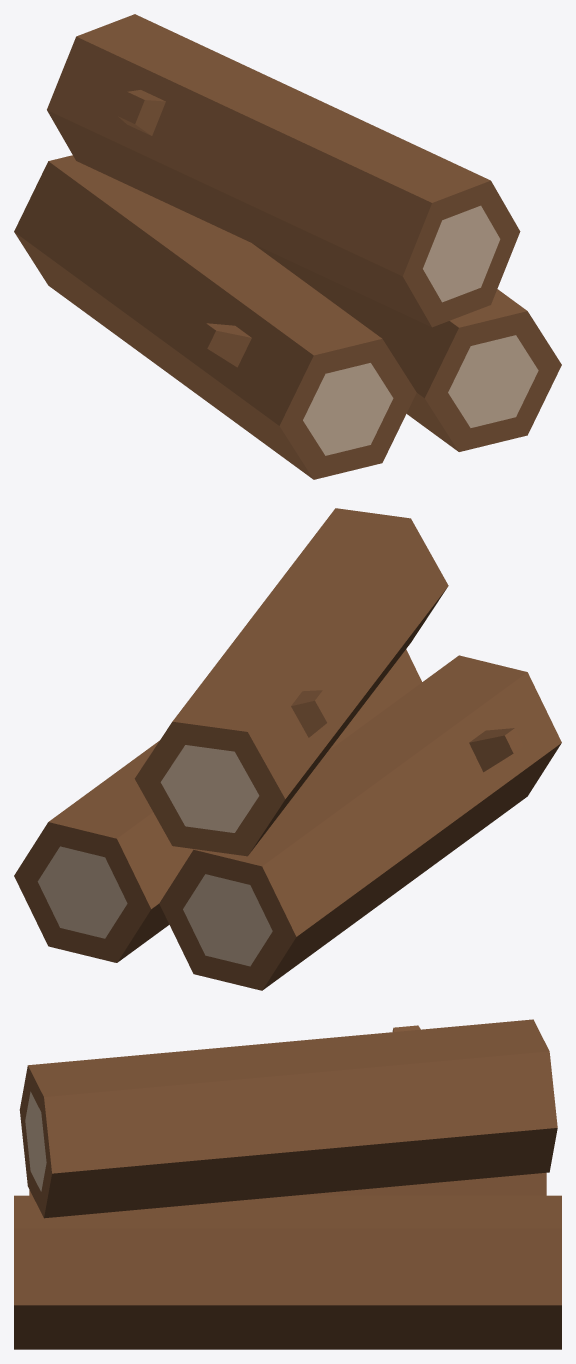
Rendered from log_stack.glb.
3 renders of one model, top to bottom at view 1: azimuth 30°, elevation 25°; view 2: azimuth 150°, elevation 25°; view 3: azimuth 270°, elevation 25°, orthographic. The views are drawn at different scales.
Visible parts, largest first — view 1: log_stack; view 2: log_stack; view 3: log_stack.
Boxes of the visible parts, x1,y1,x2,y2 form: log_stack: (14,14,561,479); log_stack: (14,508,561,990); log_stack: (14,1019,561,1349).
Bounding box in the file's own units: 0.4247 × 0.3464 × 0.71.
